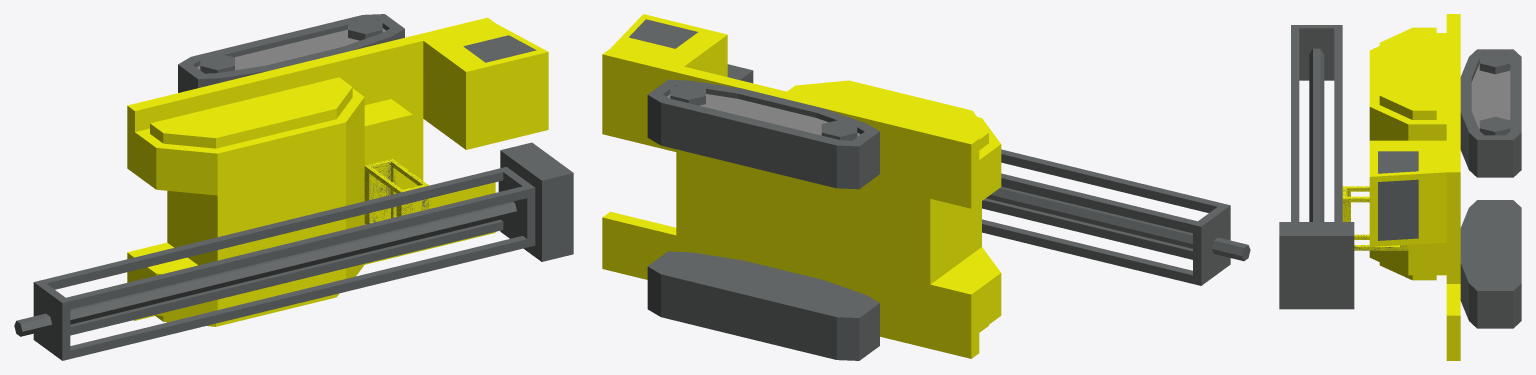
The model's file is blasthole_drilling_rig_state_2.dae.
3 views of the same model, side by side, from view 1: azimuth 30°, elevation 25°; view 2: azimuth 150°, elevation 25°; view 3: azimuth 270°, elevation 25° (orthographic). The views are drawn at different scales.
Parts seen in each view (by area): view 1: coords_ME_ID73_MA_material_2, coords_ME_ID25_MA_material, coords_ME_ID5_MA_material, coords_ME_ID13_MA_material, coords_ME_ID59_MA_material_2, coords_ME_ID19_MA_material, coords_ME_ID87_MA_material_4, coords_ME_ID121_MA_material_4, coords_ME_ID167_MA_material_5, coords_ME_ID53_MA_material_0, coords_ME_ID79_MA_material_3, coords_ME_ID41_MA_material_0 (+1 smaller); view 2: coords_ME_ID73_MA_material_2, coords_ME_ID107_MA_material_4, coords_ME_ID87_MA_material_4, coords_ME_ID25_MA_material, coords_ME_ID5_MA_material, coords_ME_ID59_MA_material_2, coords_ME_ID13_MA_material, coords_ME_ID121_MA_material_4, coords_ME_ID167_MA_material_5, coords_ME_ID79_MA_material_3; view 3: coords_ME_ID73_MA_material_2, coords_ME_ID107_MA_material_4, coords_ME_ID19_MA_material, coords_ME_ID59_MA_material_2, coords_ME_ID87_MA_material_4, coords_ME_ID25_MA_material, coords_ME_ID13_MA_material, coords_ME_ID101_MA_material_3, coords_ME_ID167_MA_material_5, coords_ME_ID5_MA_material, coords_ME_ID121_MA_material_4, coords_ME_ID79_MA_material_3 (+2 smaller).
Boxes of the visible parts, x1,y1,x2,y2 form: coords_ME_ID73_MA_material_2: (127,17,548,320); coords_ME_ID25_MA_material: (33,167,535,360); coords_ME_ID5_MA_material: (46,172,527,350); coords_ME_ID13_MA_material: (14,201,516,336); coords_ME_ID59_MA_material_2: (150,77,352,148); coords_ME_ID19_MA_material: (500,142,573,261); coords_ME_ID87_MA_material_4: (178,14,404,92); coords_ME_ID121_MA_material_4: (193,17,389,73); coords_ME_ID167_MA_material_5: (235,29,359,70); coords_ME_ID53_MA_material_0: (364,159,429,224); coords_ME_ID79_MA_material_3: (463,35,536,62); coords_ME_ID41_MA_material_0: (371,161,422,221); coords_ME_ID73_MA_material_2: (602,14,1001,358); coords_ME_ID107_MA_material_4: (647,251,879,360); coords_ME_ID87_MA_material_4: (647,79,879,189); coords_ME_ID25_MA_material: (982,149,1230,285); coords_ME_ID5_MA_material: (982,154,1217,275); coords_ME_ID59_MA_material_2: (787,80,988,149); coords_ME_ID13_MA_material: (986,186,1250,261); coords_ME_ID121_MA_material_4: (663,83,864,140); coords_ME_ID167_MA_material_5: (700,94,828,135); coords_ME_ID79_MA_material_3: (629,19,697,48); coords_ME_ID73_MA_material_2: (1369,14,1460,360); coords_ME_ID107_MA_material_4: (1460,200,1521,328); coords_ME_ID19_MA_material: (1279,222,1354,309); coords_ME_ID59_MA_material_2: (1379,27,1436,119); coords_ME_ID87_MA_material_4: (1460,49,1521,177); coords_ME_ID25_MA_material: (1291,25,1342,221); coords_ME_ID13_MA_material: (1309,48,1324,221); coords_ME_ID101_MA_material_3: (1378,179,1418,240); coords_ME_ID167_MA_material_5: (1471,63,1510,129); coords_ME_ID5_MA_material: (1299,28,1334,80); coords_ME_ID121_MA_material_4: (1471,52,1510,135); coords_ME_ID79_MA_material_3: (1378,151,1418,173).
Bounding box in the file's own units: 140 × 51.4 × 58.24.
